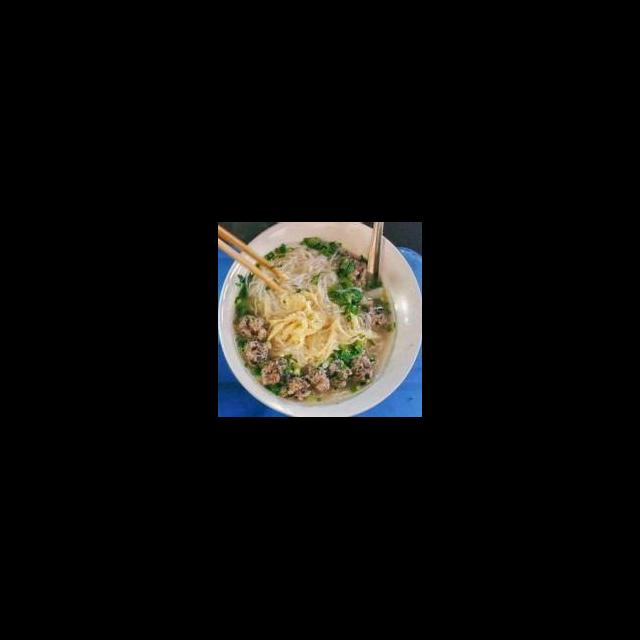bun: (246, 242, 342, 324)
vien moc: (360, 294, 392, 334), (301, 356, 333, 394), (347, 353, 377, 392), (257, 354, 291, 388), (278, 372, 313, 404), (234, 314, 271, 344), (241, 338, 270, 372), (326, 358, 354, 392)
